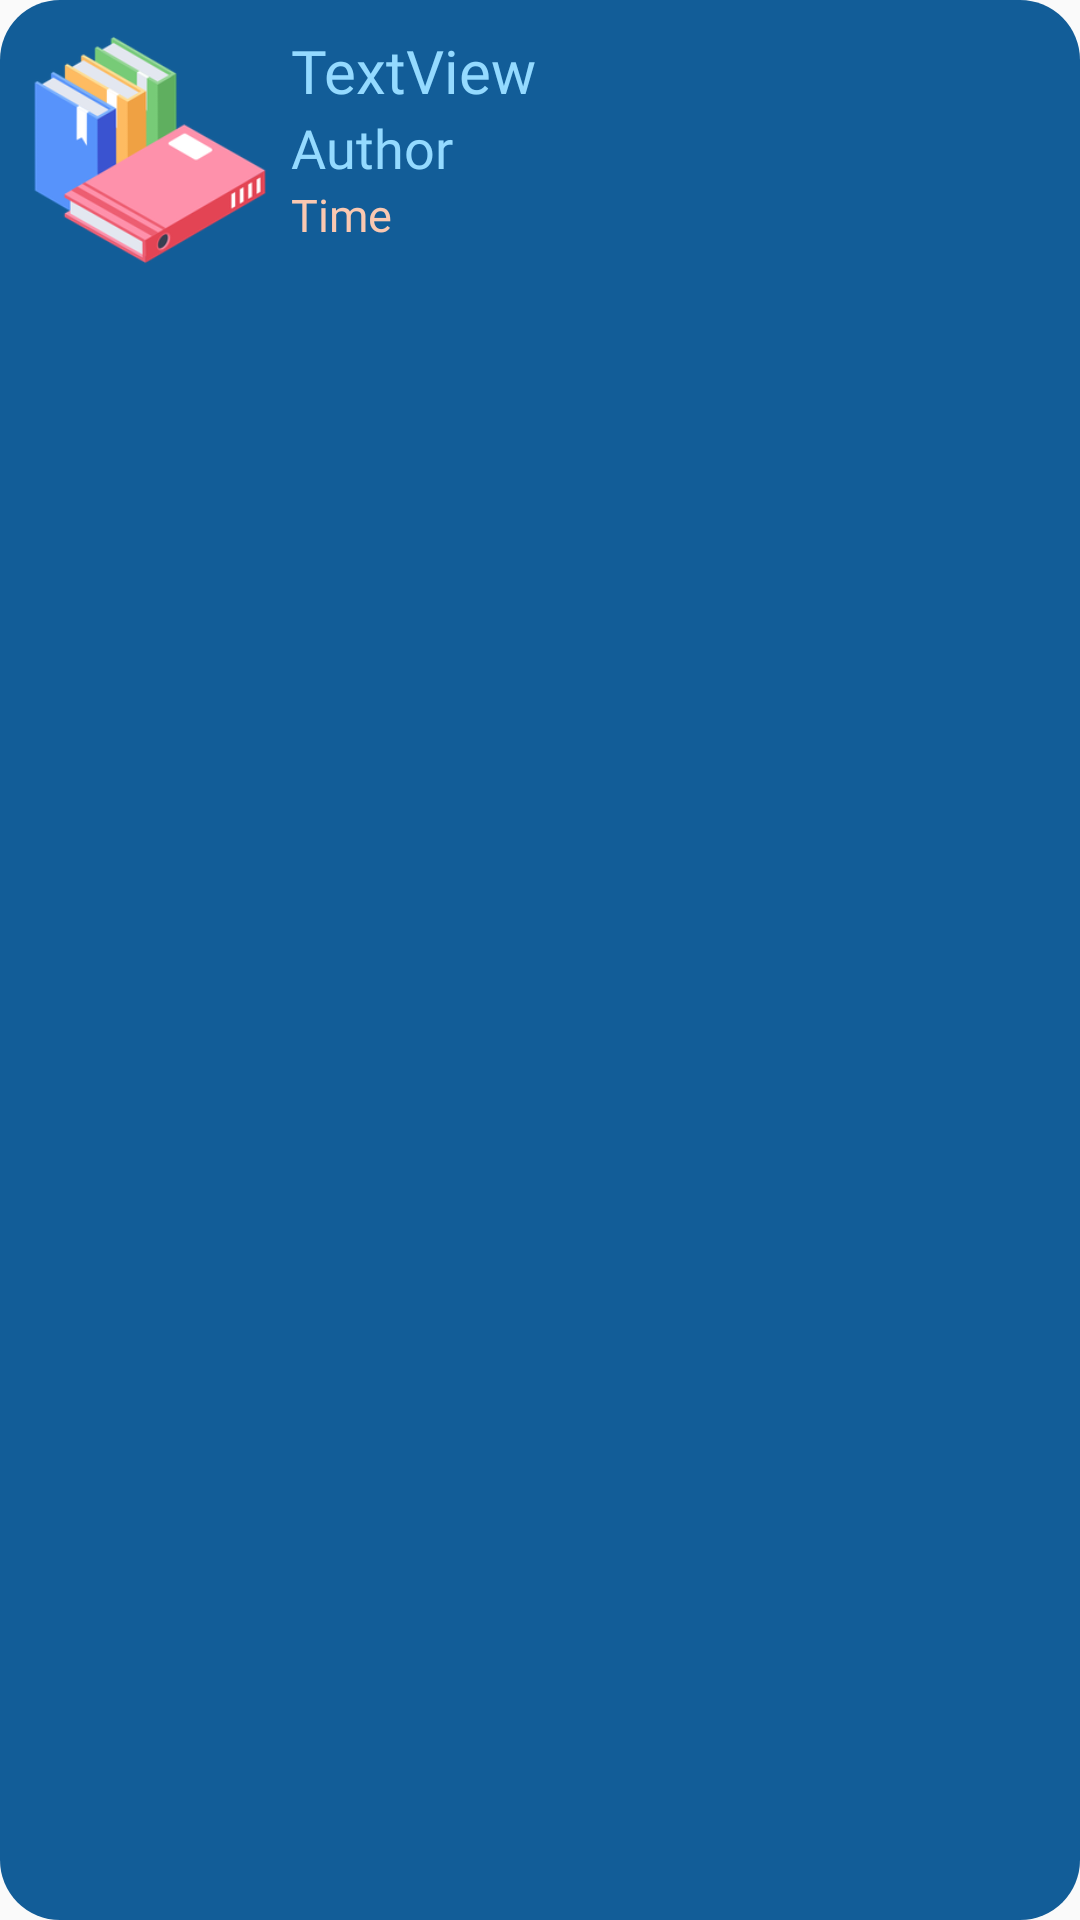

Named icons in this screenshot (1080x1920) and their centers, [x,y]:
book: [150,150]
